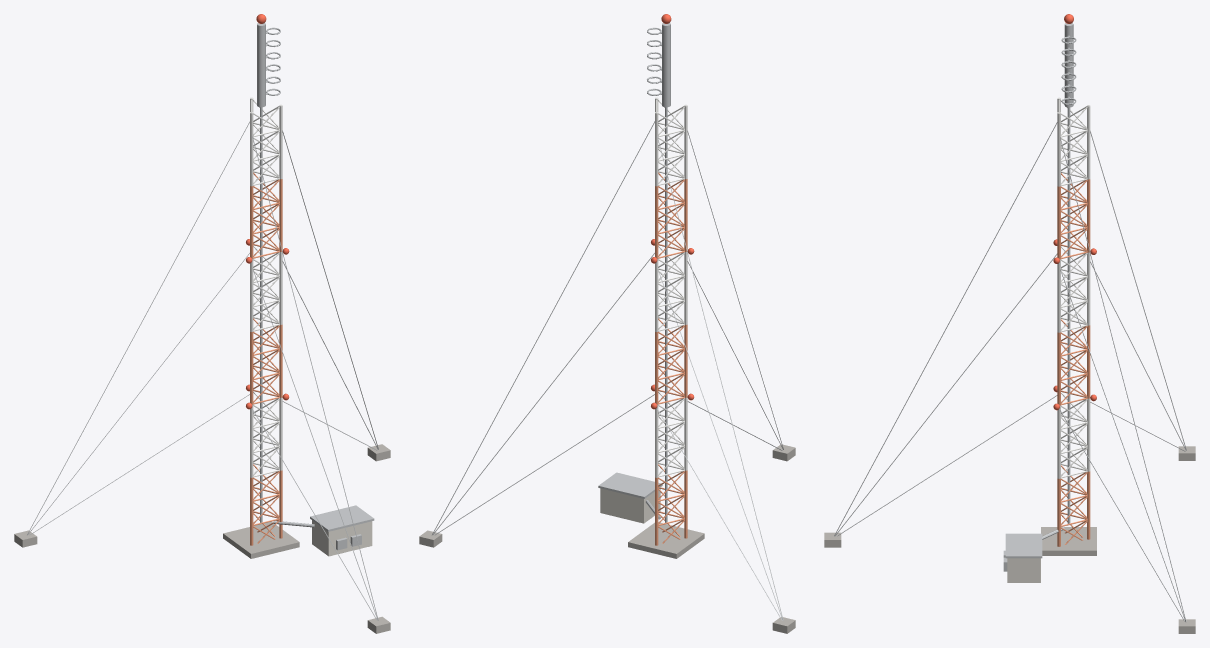
File: RadioTower.fbx
3 views of the same model, side by side, from view 1: azimuth 30°, elevation 25°; view 2: azimuth 150°, elevation 25°; view 3: azimuth 270°, elevation 25° (orthographic).
Visible parts, largest first — view 1: Body; view 2: Body; view 3: Body.
Boxes of the visible parts, x1,y1,x2,y2 form: Body: [14, 14, 390, 633]; Body: [419, 14, 795, 633]; Body: [824, 14, 1195, 633].
Bounding box in the file's own units: 0.7575 × 1.04 × 0.66.
